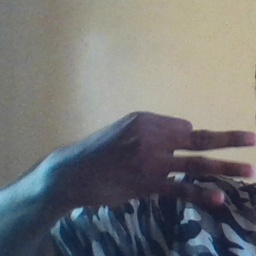K: (48, 110, 256, 217)
